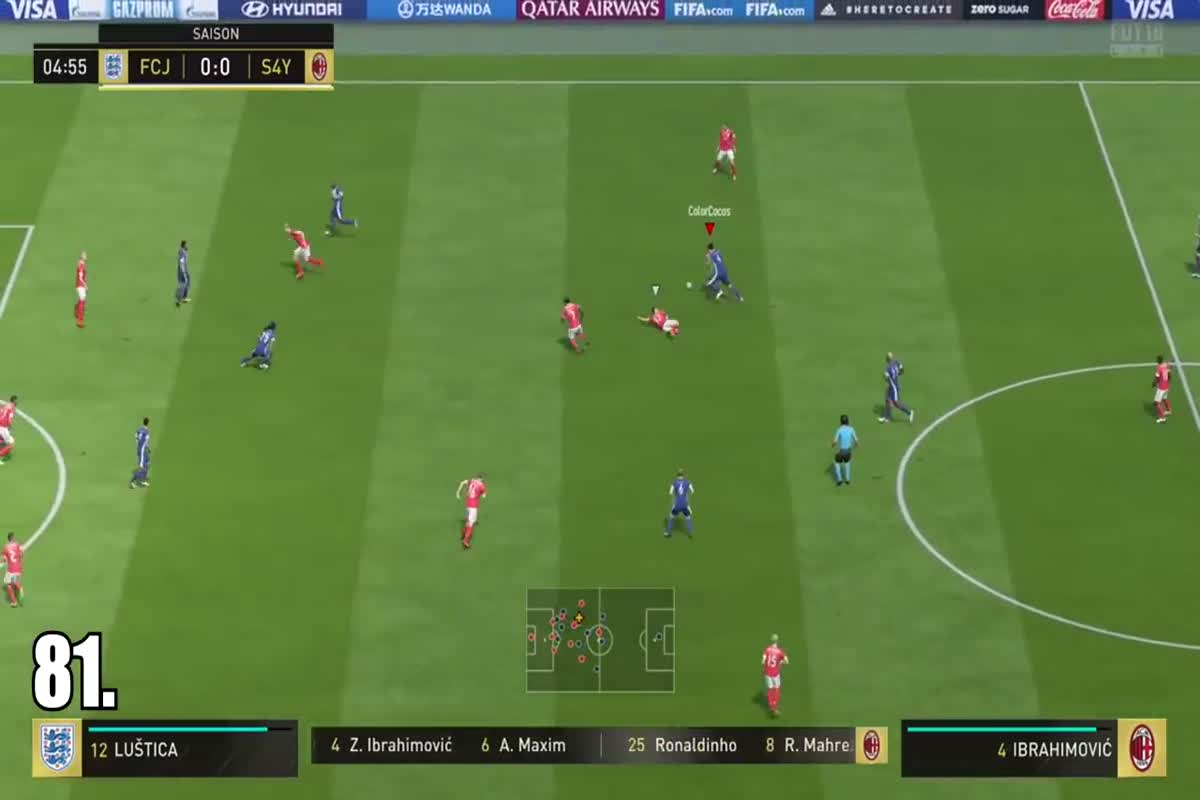ball: (679, 274, 701, 296)
